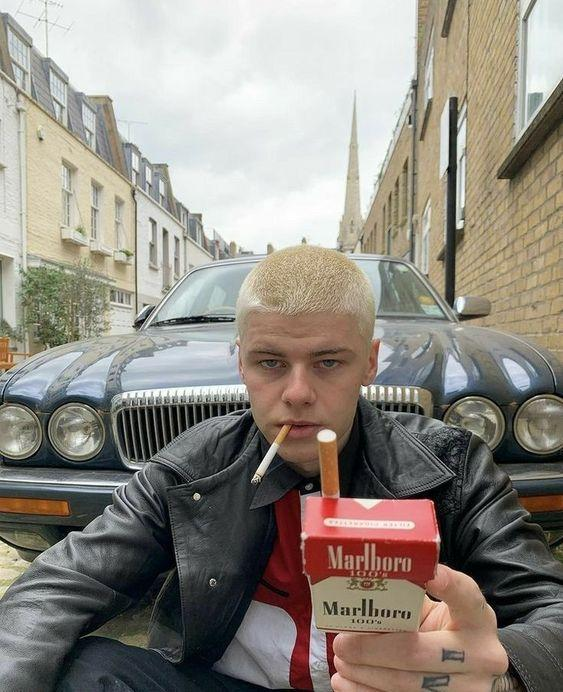cigarette: (250, 424, 294, 484)
